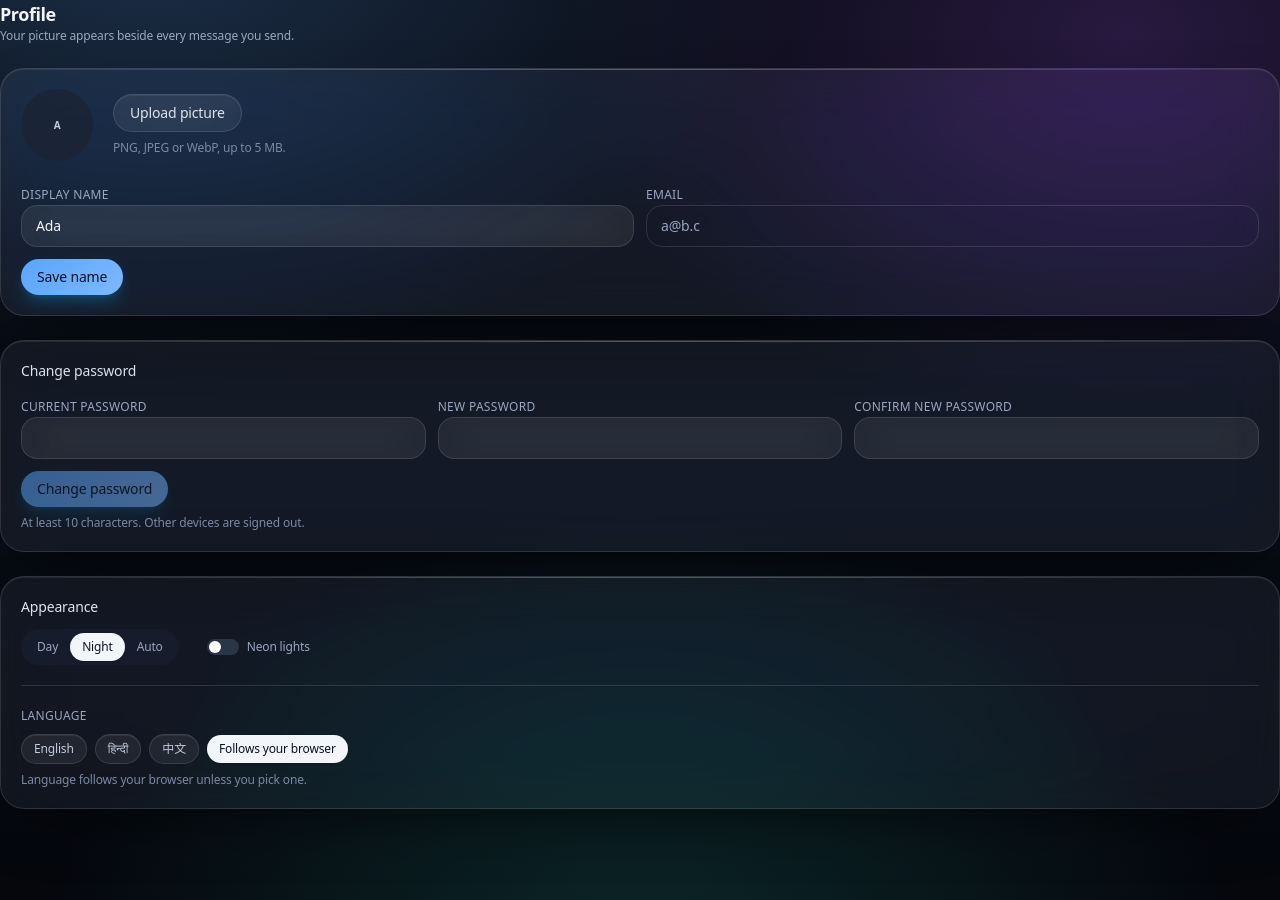
Test: Profile — password › says the current password is wrong in the interface language
In the password field labelled "Current password": [223, 438] box [21,417,426,459], type "wrong-password"
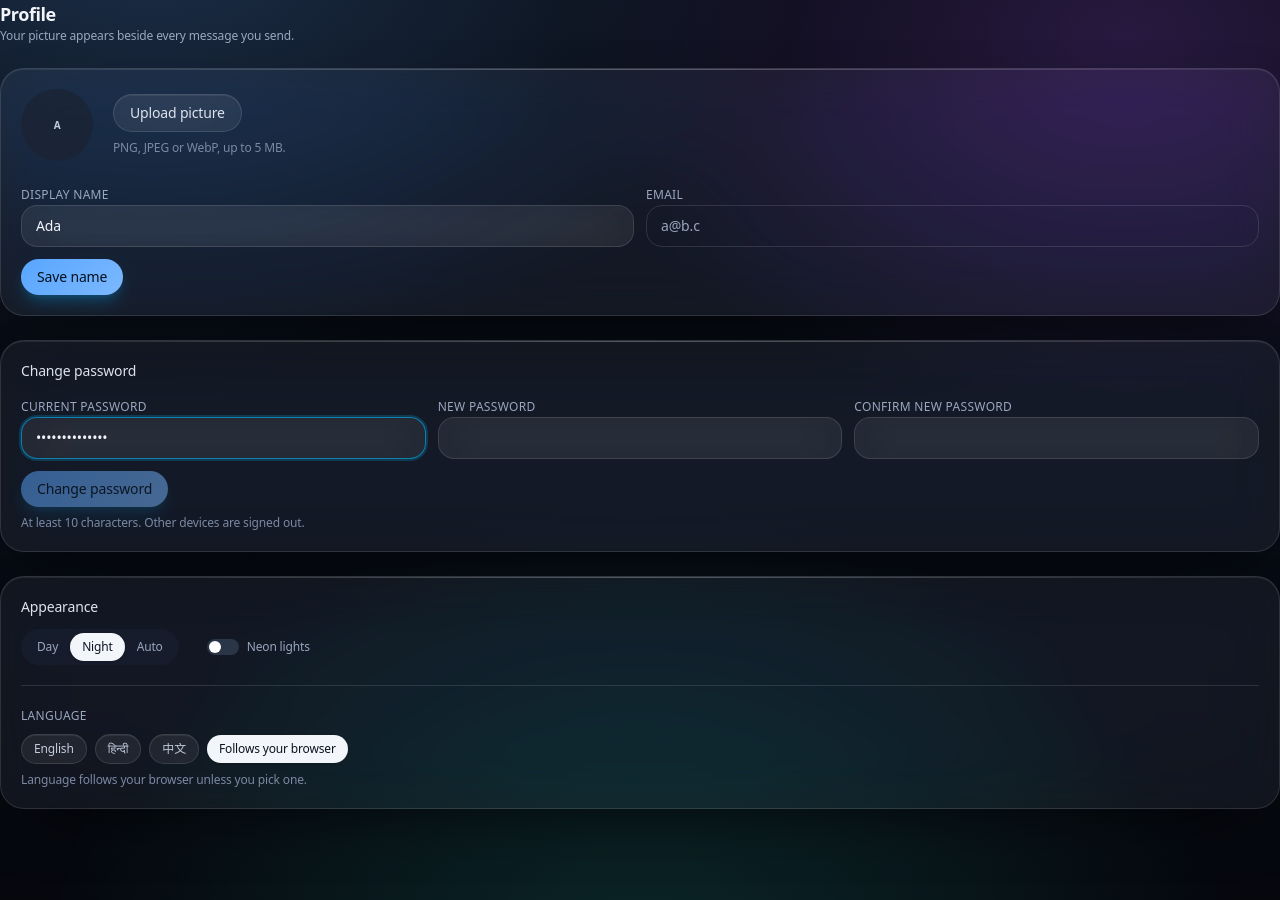
In the password field labelled "New password": [640, 438] box [438,417,842,459], type "brand-new-password"
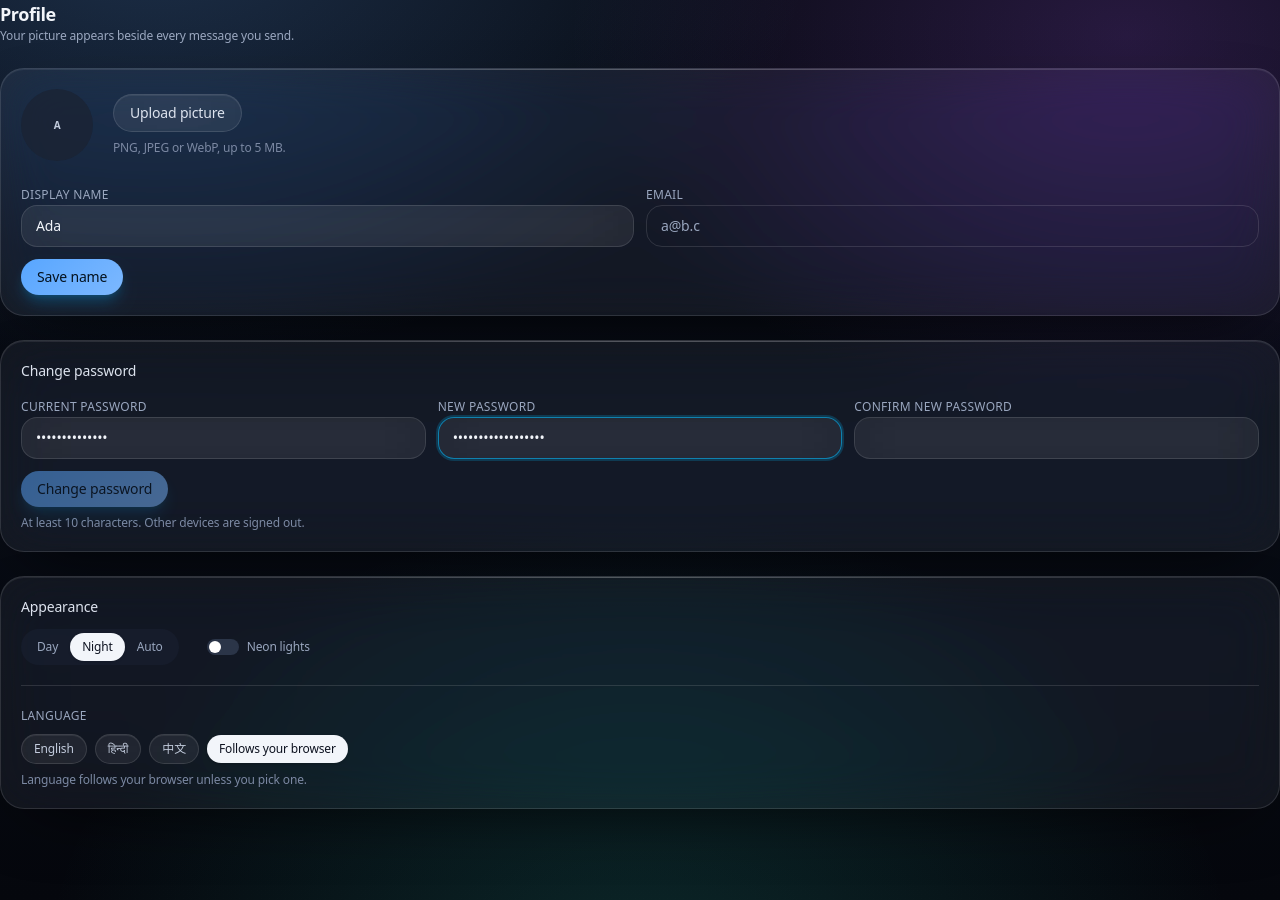
In the password field labelled "Confirm new password": [1057, 438] box [854,417,1259,459], type "brand-new-password"
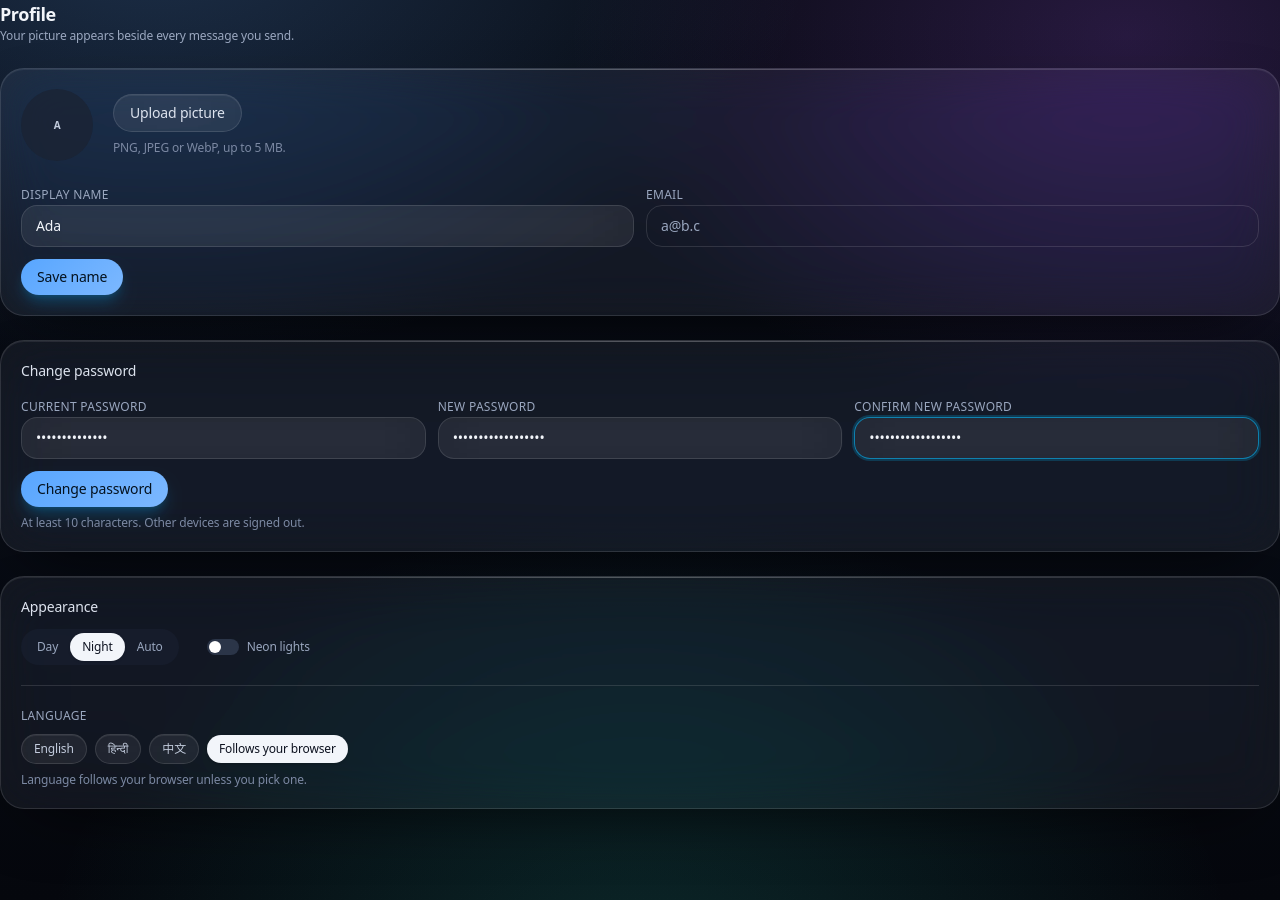
Click the button "Change password": [95, 489] box [21,471,168,507]
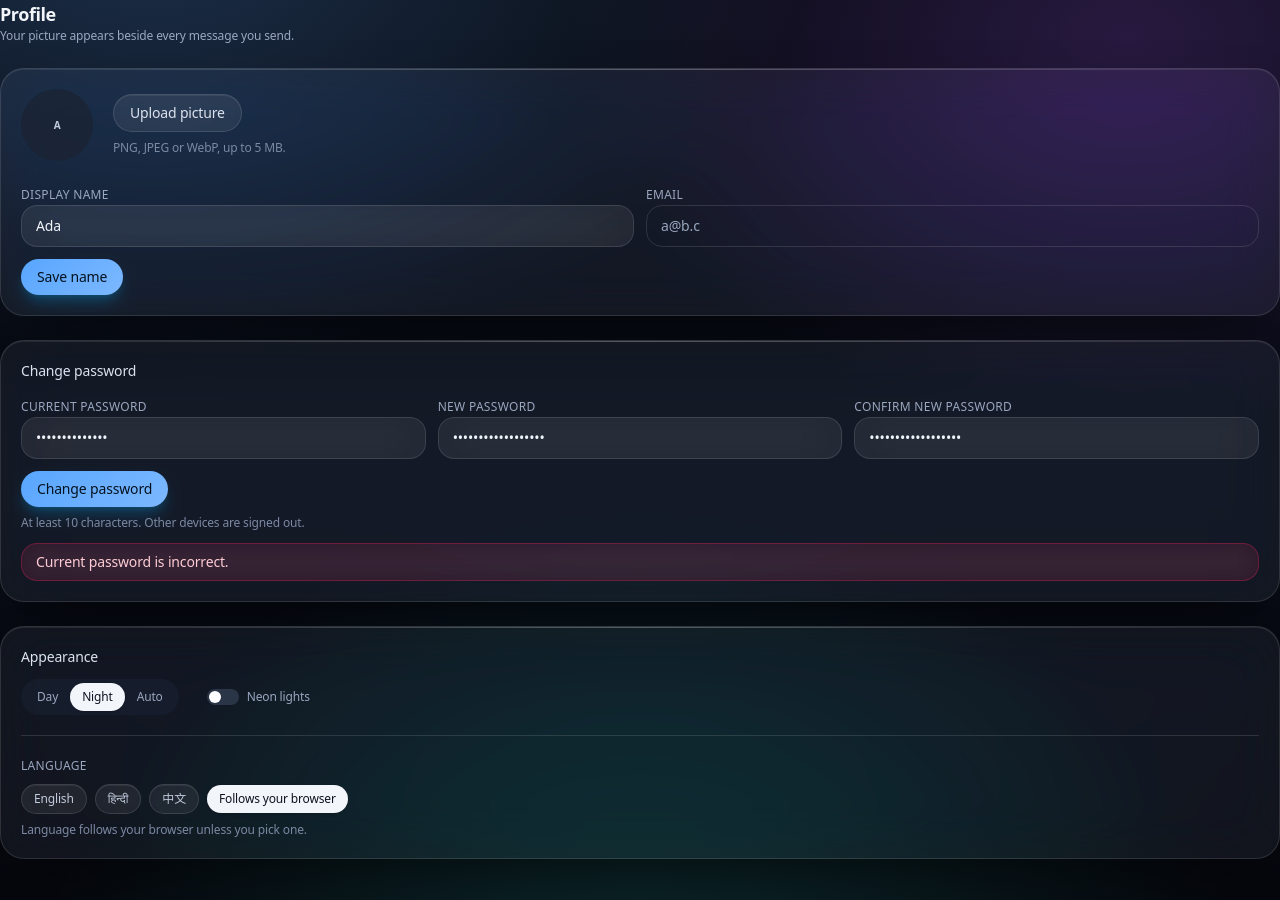
Result: the message reads "Current password is incorrect." at [36,552,228,571]
